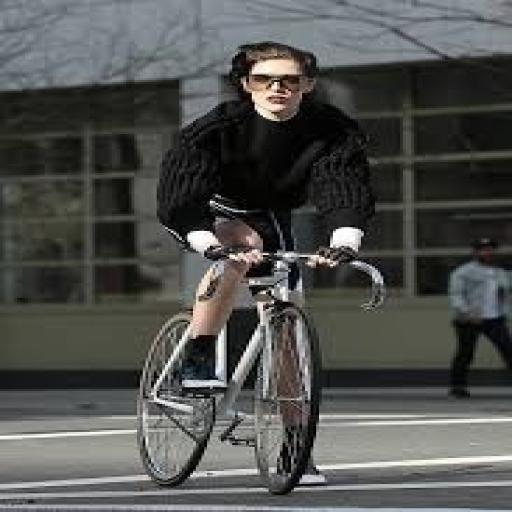cycling: (151, 39, 381, 393), (439, 235, 509, 402)
